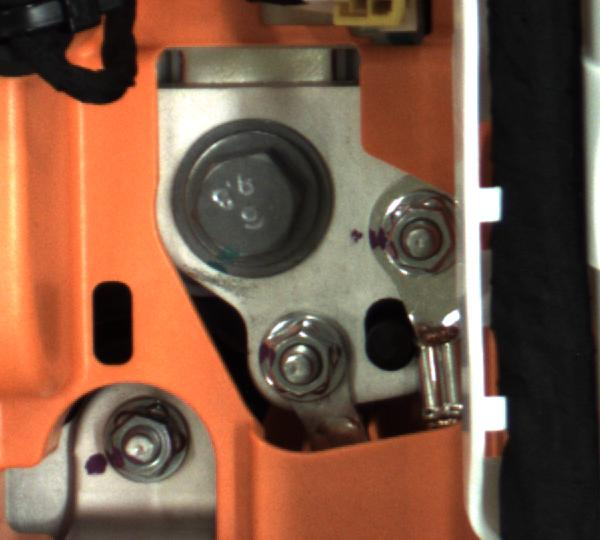nut_b: (182, 138, 330, 269)
screw_s: (247, 323, 358, 417), (359, 191, 451, 281), (96, 414, 189, 481)
